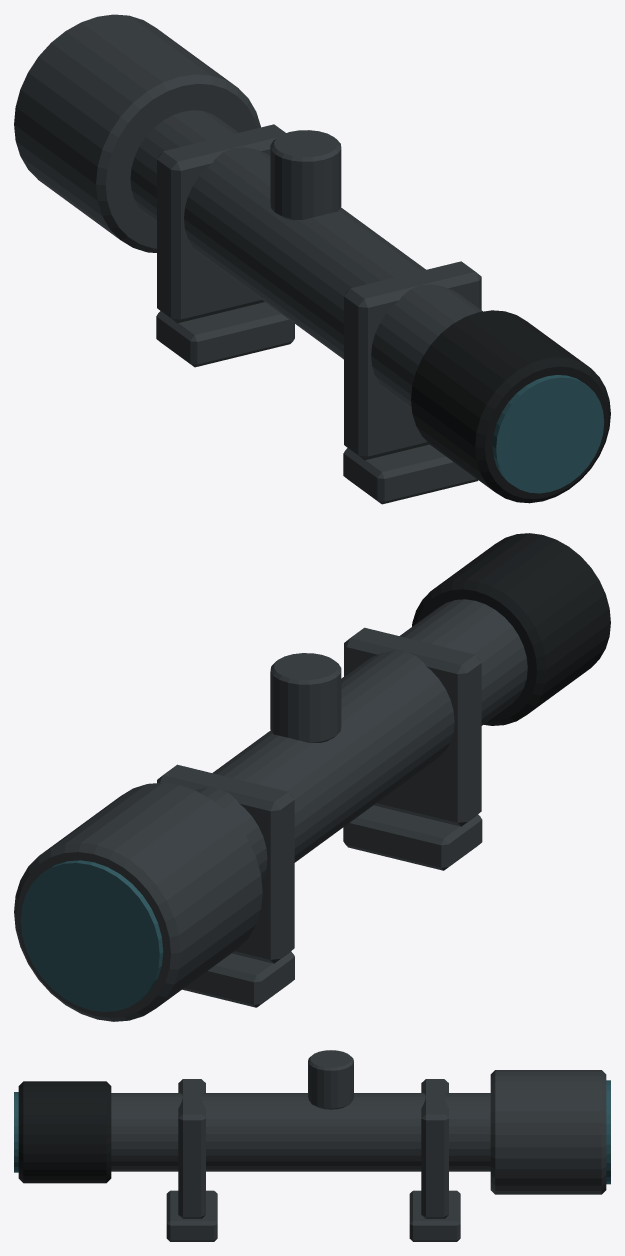
The model's file is part_scope.glb.
The picture shows the model from 3 angles, top to bottom: view 1: azimuth 30°, elevation 25°; view 2: azimuth 150°, elevation 25°; view 3: azimuth 270°, elevation 25°; orthographic projection. The views are drawn at different scales.
Parts seen in each view (by area): view 1: part_scope; view 2: part_scope; view 3: part_scope.
Part boxes in pixels (<box>): part_scope: <box>14,14,610,504</box>; part_scope: <box>14,533,610,1021</box>; part_scope: <box>14,1050,610,1241</box>.
Size of the model in its own units: 0.054 by 0.08 by 0.258.
